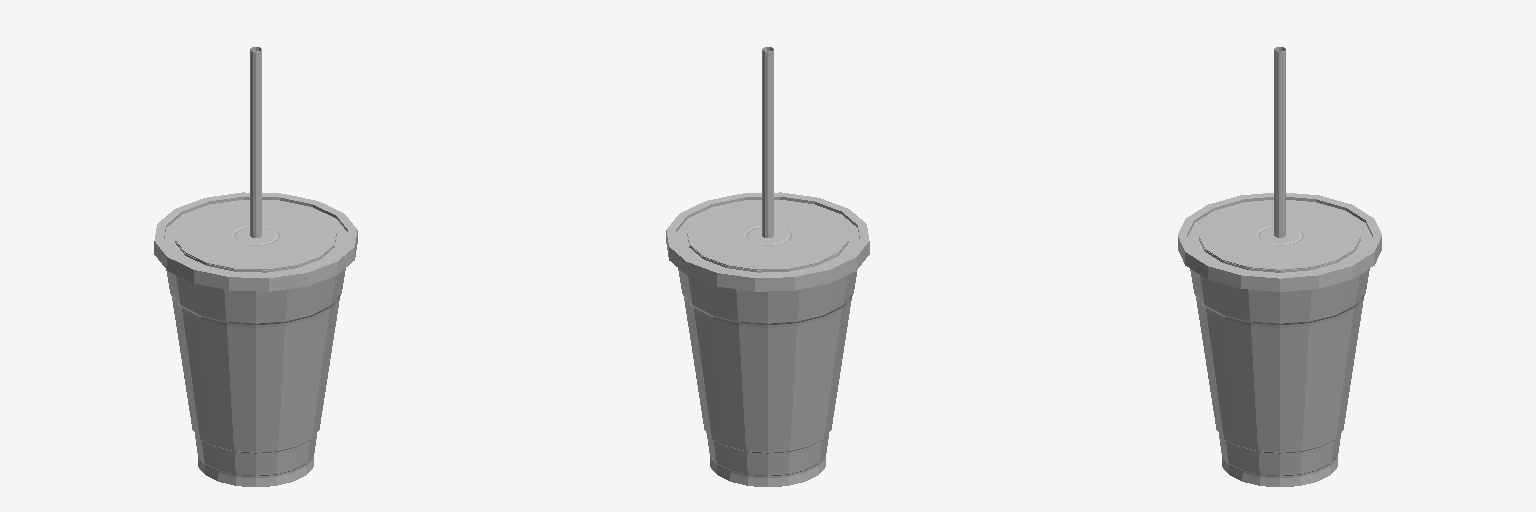
The model's file is plasticcup_01.obj.
3 views of the same model, side by side, from view 1: azimuth 30°, elevation 25°; view 2: azimuth 150°, elevation 25°; view 3: azimuth 270°, elevation 25° (orthographic).
Parts seen in each view (by area): view 1: plasticcup_01_straw_Cylinder.003; view 2: plasticcup_01_straw_Cylinder.003; view 3: plasticcup_01_straw_Cylinder.003.
Part boxes in pixels (left/top/right/bottom): plasticcup_01_straw_Cylinder.003: left=154, top=47, right=357, bottom=486; plasticcup_01_straw_Cylinder.003: left=666, top=47, right=869, bottom=486; plasticcup_01_straw_Cylinder.003: left=1178, top=47, right=1381, bottom=486.
Size of the model in its own units: 0.0988 by 0.22 by 0.0988.